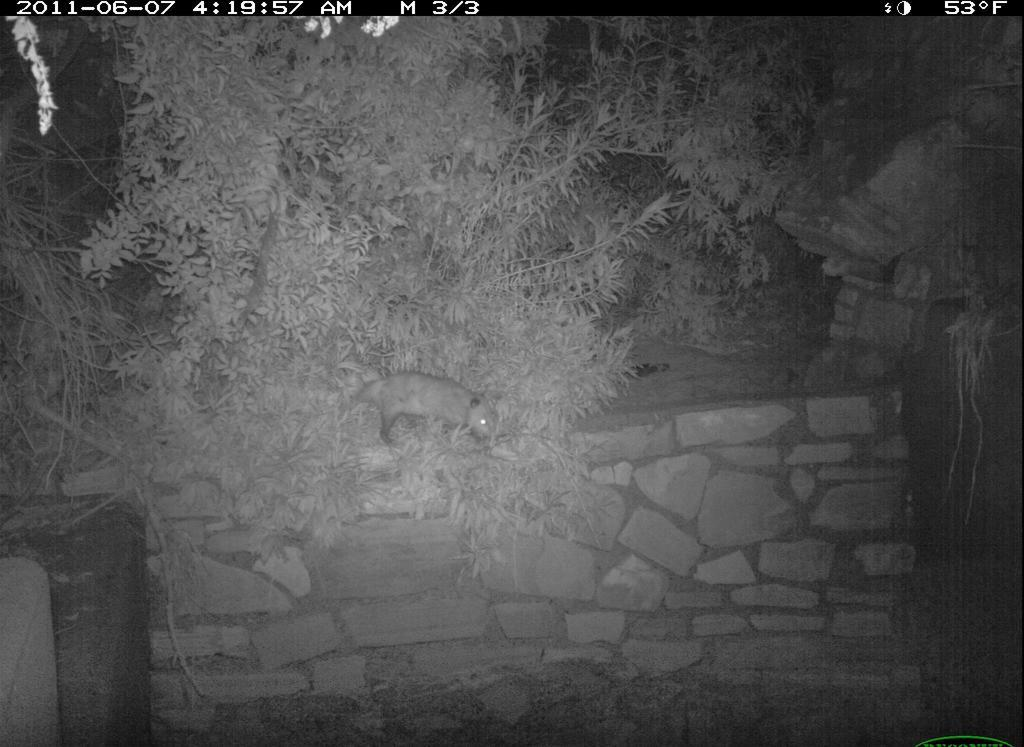opossum: (346, 363, 509, 457)
